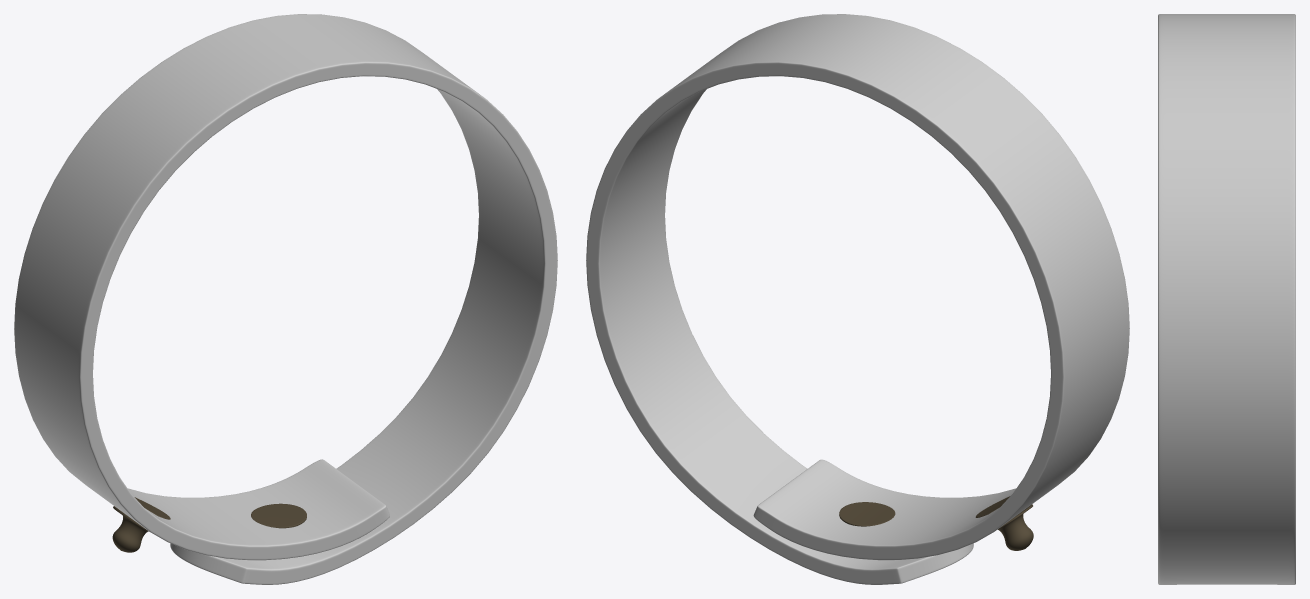
Rendered from 13096_leather_strap_bracelet_v2_L3.obj.
The picture shows the model from 3 angles, left to right: view 1: azimuth 30°, elevation 25°; view 2: azimuth 150°, elevation 25°; view 3: azimuth 270°, elevation 25°; orthographic projection. The views are drawn at different scales.
Parts seen in each view (by area): view 1: leather_strap_bracelet_body, leather_strap_bracelet_1; view 2: leather_strap_bracelet_body, leather_strap_bracelet_1; view 3: leather_strap_bracelet_body.
Part boxes in pixels (<box>): leather_strap_bracelet_body: <box>14,14,557,584</box>; leather_strap_bracelet_1: <box>112,497,306,552</box>; leather_strap_bracelet_body: <box>586,14,1129,584</box>; leather_strap_bracelet_1: <box>839,496,1033,550</box>; leather_strap_bracelet_body: <box>1158,14,1295,584</box>.
Bounding box in the file's own units: 19.16 × 19.76 × 4.61.
